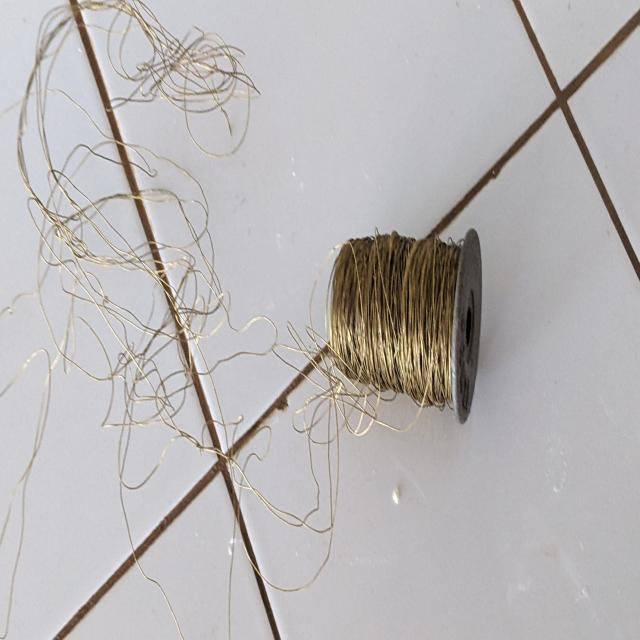Wire Coil: (320, 218, 490, 445)
